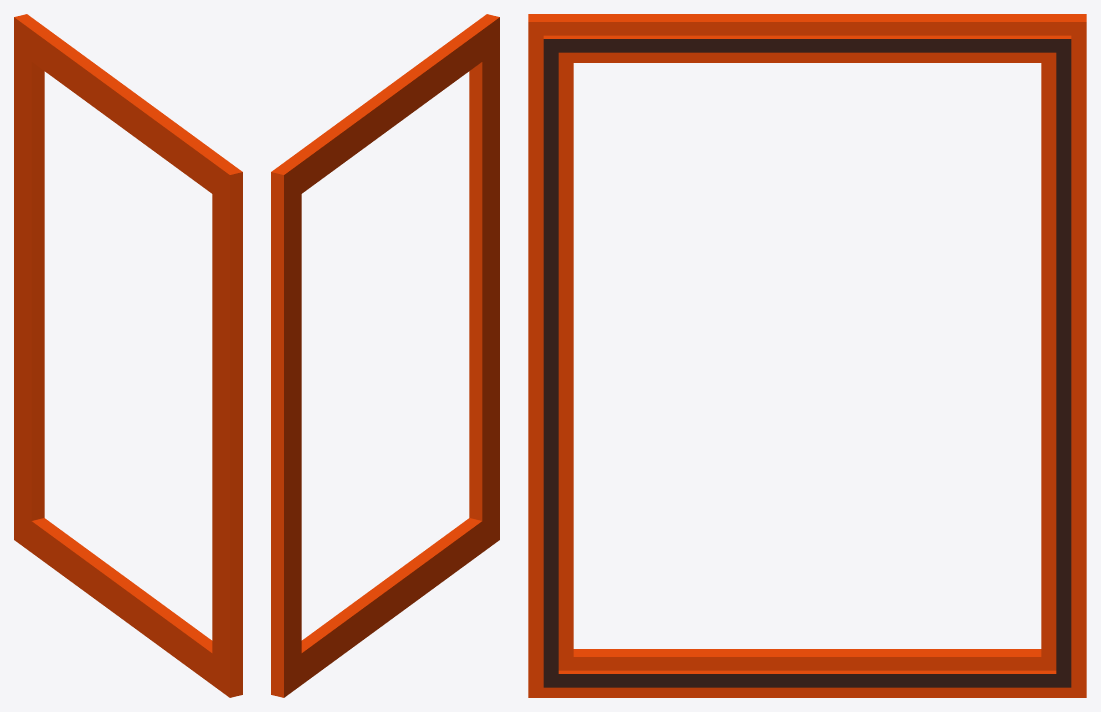
File: window.obj
The picture shows the model from 3 angles, left to right: view 1: azimuth 30°, elevation 25°; view 2: azimuth 150°, elevation 25°; view 3: azimuth 270°, elevation 25°; orthographic projection. The views are drawn at different scales.
Parts seen in each view (by area): view 1: Box001; view 2: Box001; view 3: Box001.
Part boxes in pixels (x1=…): Box001: x1=14, y1=14, x2=242, y2=697; Box001: x1=271, y1=14, x2=499, y2=697; Box001: x1=528, y1=14, x2=1086, y2=697.
Bounding box in the file's own units: 0.072 × 2 × 1.5.
